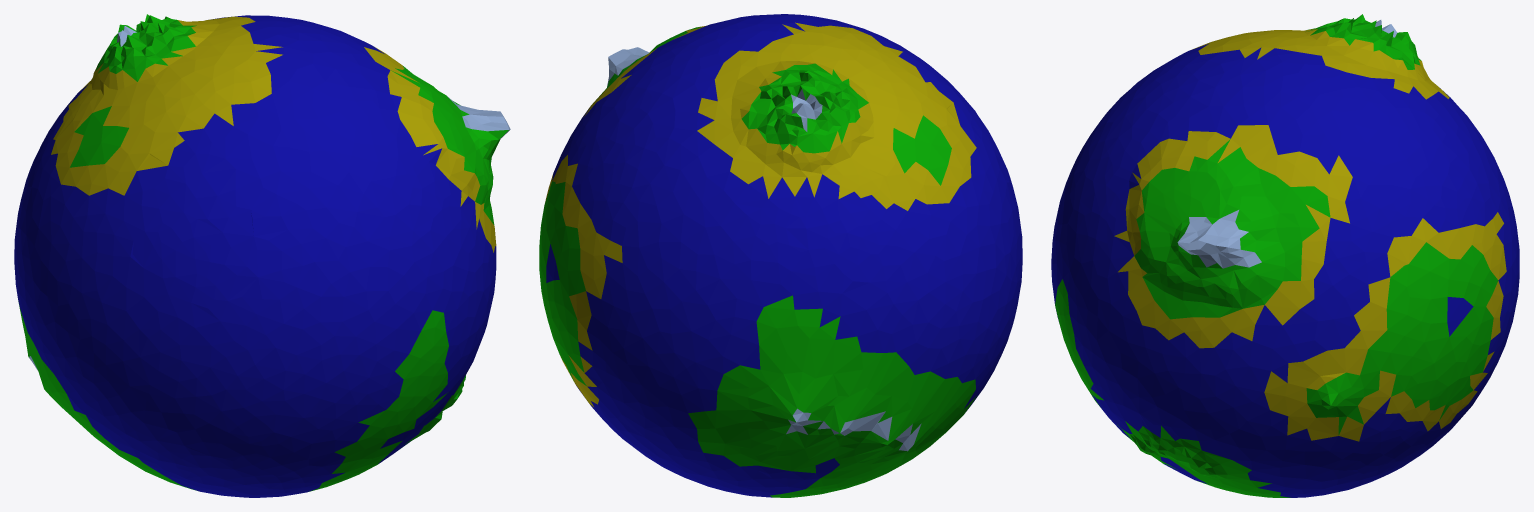
Rendered from globe.obj.
3 views of the same model, side by side, from view 1: azimuth 30°, elevation 25°; view 2: azimuth 150°, elevation 25°; view 3: azimuth 270°, elevation 25° (orthographic). The views are drawn at different scales.
Parts seen in each view (by area): view 1: Icosphere_Icosphere_Water, Icosphere_Icosphere_Sand, Icosphere_Icosphere_Grass, Icosphere_Icosphere_Snow; view 2: Icosphere_Icosphere_Water, Icosphere_Icosphere_Grass, Icosphere_Icosphere_Sand, Icosphere_Icosphere_Snow; view 3: Icosphere_Icosphere_Water, Icosphere_Icosphere_Grass, Icosphere_Icosphere_Sand, Icosphere_Icosphere_Snow.
Boxes of the visible parts, left/top/right/bottom form: Icosphere_Icosphere_Water: left=14, top=15, right=496, bottom=497; Icosphere_Icosphere_Sand: left=51, top=16, right=496, bottom=252; Icosphere_Icosphere_Grass: left=18, top=14, right=508, bottom=491; Icosphere_Icosphere_Snow: left=29, top=26, right=510, bottom=370; Icosphere_Icosphere_Water: left=546, top=14, right=1022, bottom=497; Icosphere_Icosphere_Grass: left=539, top=27, right=976, bottom=497; Icosphere_Icosphere_Sand: left=545, top=22, right=976, bottom=406; Icosphere_Icosphere_Snow: left=607, top=47, right=921, bottom=451; Icosphere_Icosphere_Water: left=1051, top=44, right=1519, bottom=497; Icosphere_Icosphere_Grass: left=1055, top=14, right=1498, bottom=497; Icosphere_Icosphere_Sand: left=1114, top=28, right=1506, bottom=441; Icosphere_Icosphere_Snow: left=1177, top=20, right=1397, bottom=268.
Size of the model in its own units: 20.08 by 20.13 by 19.91.
